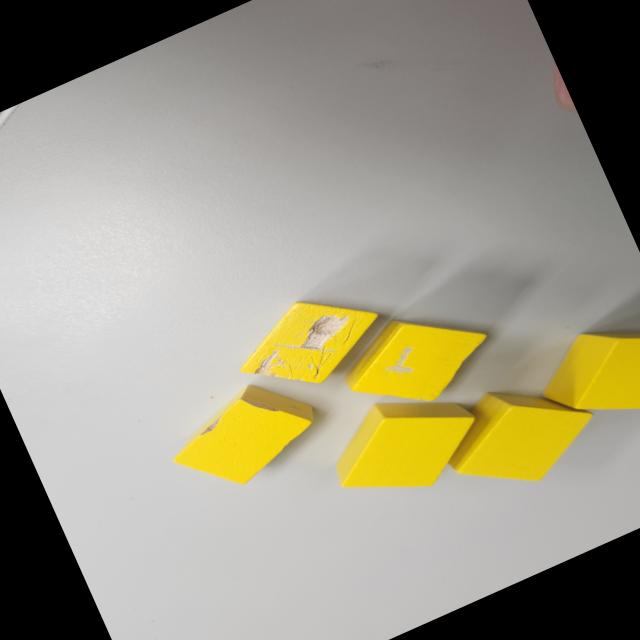broken: (328, 285, 506, 434), (157, 364, 332, 508), (220, 272, 396, 414)
yellow: (423, 356, 609, 514), (315, 367, 497, 522), (522, 296, 640, 450)
